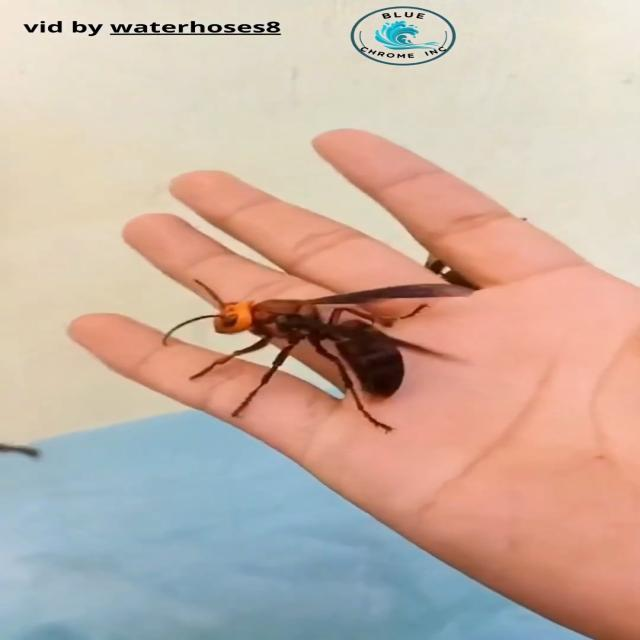Hornets: (162, 277, 476, 431)
